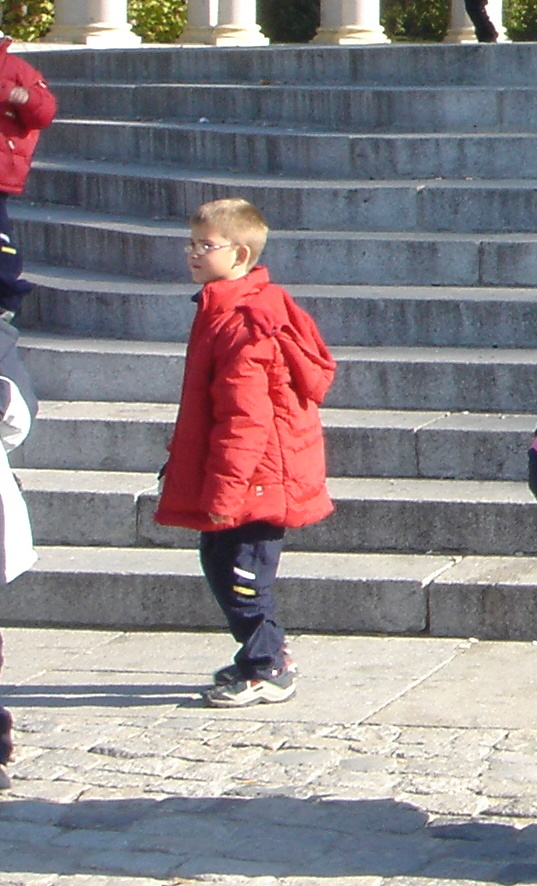person: (163, 196, 325, 707)
